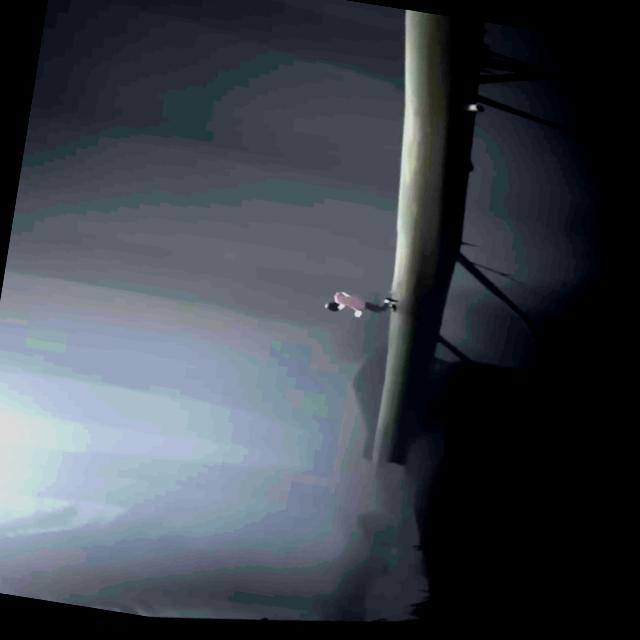boy: (322, 288, 397, 322)
